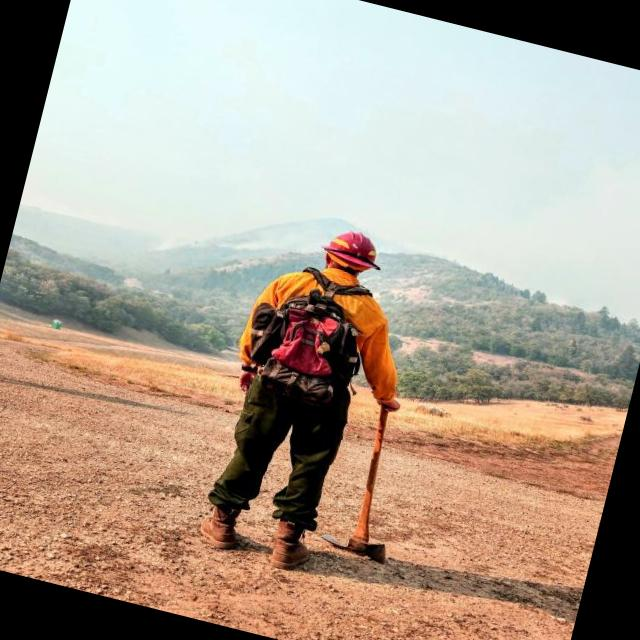Axe: (322, 405, 388, 563)
